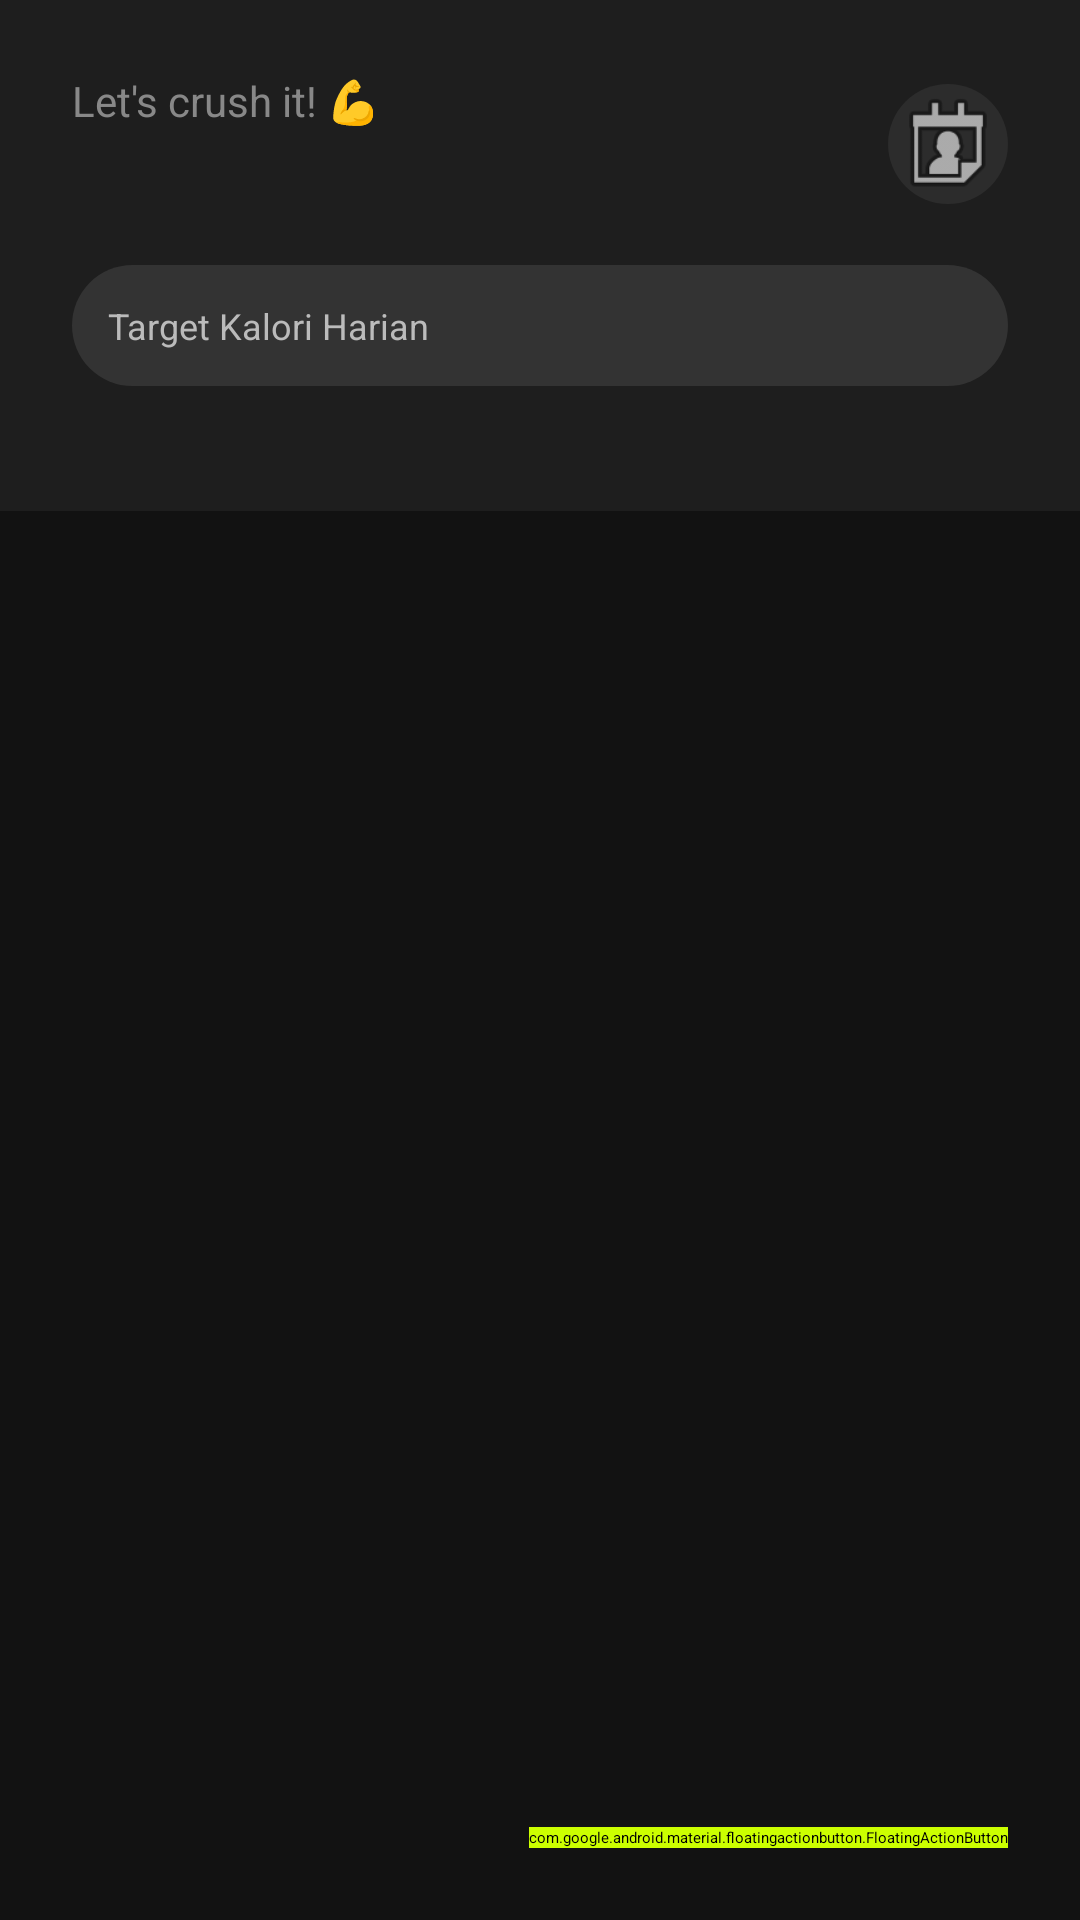

Screen size 1080 × 1920. Icon name, then its center in pixels as (x,y):
calendar: (948,142)
